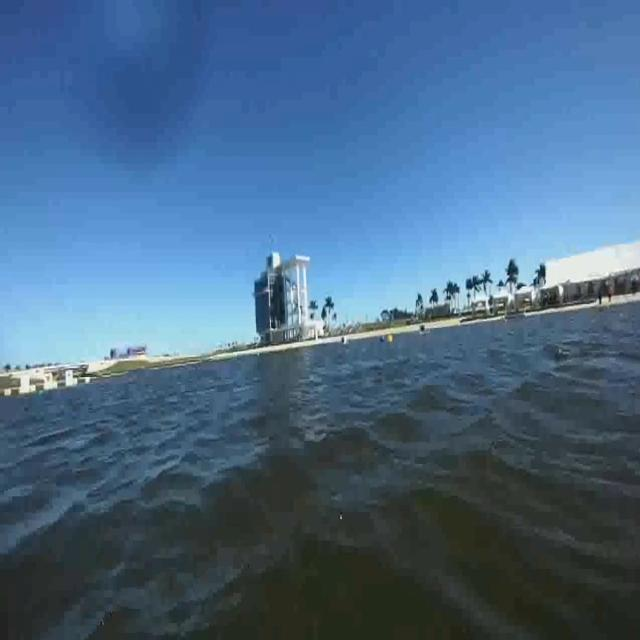yellow-buoy: (388, 334, 394, 346)
